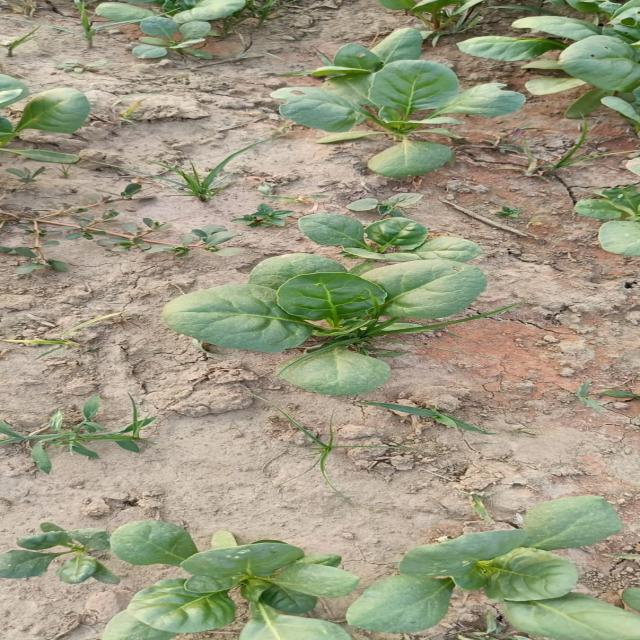plant: (161, 214, 504, 396), (346, 497, 638, 640), (271, 29, 524, 177), (101, 522, 356, 640)
